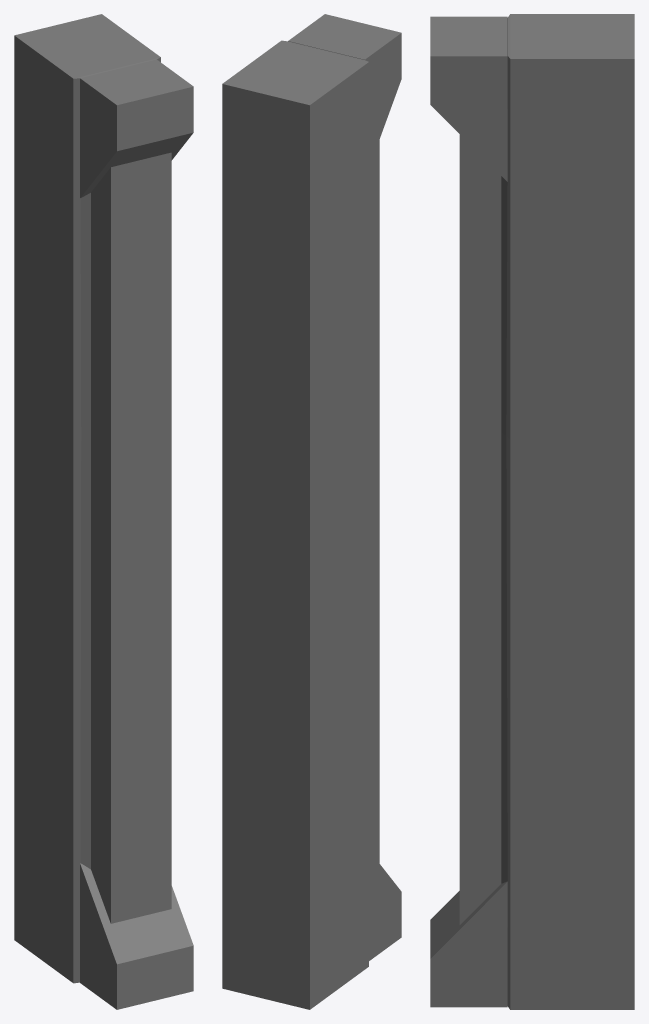
The model's file is q-scifi-mod-column-simple.glb.
3 views of the same model, side by side, from view 1: azimuth 30°, elevation 25°; view 2: azimuth 150°, elevation 25°; view 3: azimuth 270°, elevation 25° (orthographic). The views are drawn at different scales.
Visible parts, largest first — view 1: Column_Simple; view 2: Column_Simple; view 3: Column_Simple.
Part boxes in pixels (x1,y1,x2,y2): Column_Simple: (14,14,193,1009); Column_Simple: (222,14,401,1009); Column_Simple: (430,14,634,1009).
Bounding box in the file's own units: 0.5068 × 5 × 0.9749.
Materials: 2 (2 with a texture image).
